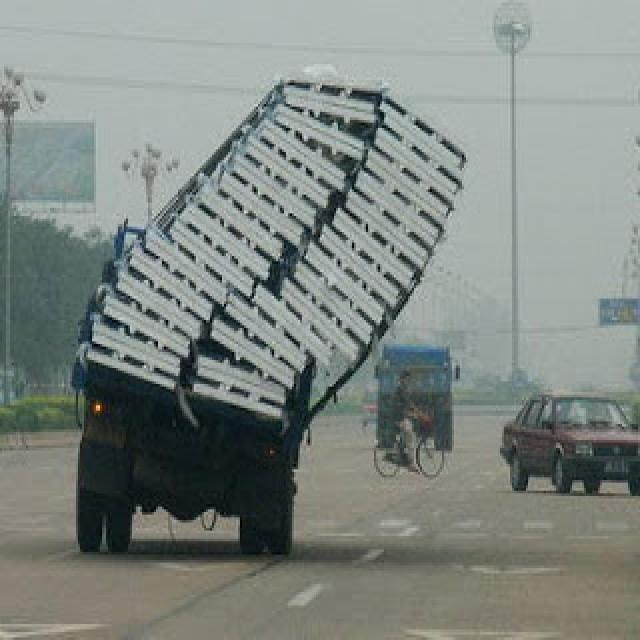overloaded_truck: (49, 31, 509, 575)
